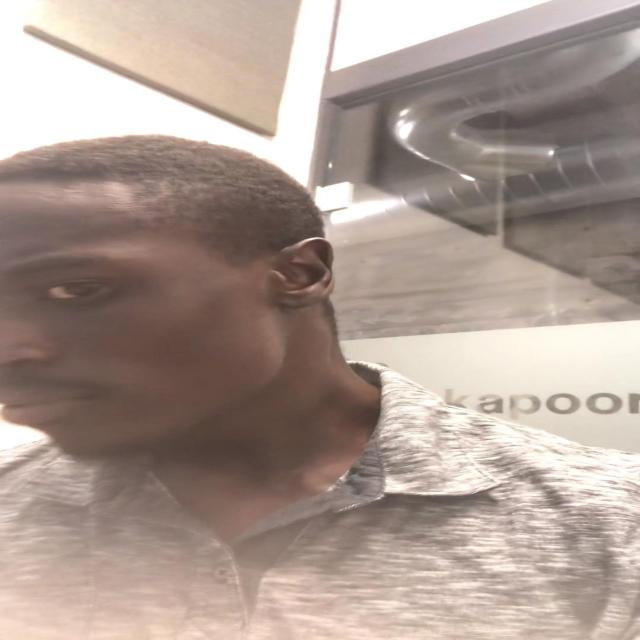face: (0, 189, 276, 463)
